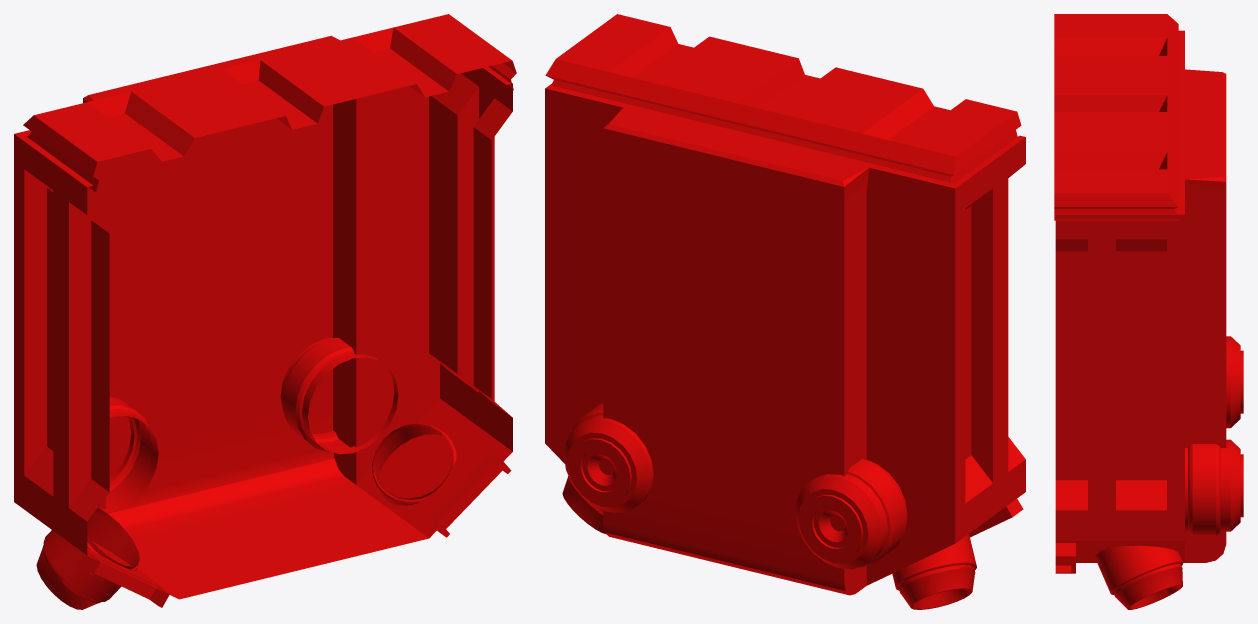
Rendered from end.fbx.
The picture shows the model from 3 angles, left to right: view 1: azimuth 30°, elevation 25°; view 2: azimuth 150°, elevation 25°; view 3: azimuth 270°, elevation 25°; orthographic projection. The views are drawn at different scales.
Visible parts, largest first — view 1: polySurface19; view 2: polySurface19; view 3: polySurface19.
Boxes of the visible parts, x1=… form: polySurface19: x1=14, y1=14, x2=516, y2=609; polySurface19: x1=545, y1=14, x2=1025, y2=609; polySurface19: x1=1054, y1=14, x2=1243, y2=609.
Size of the model in its own units: 9.46 by 10.31 by 4.08.
